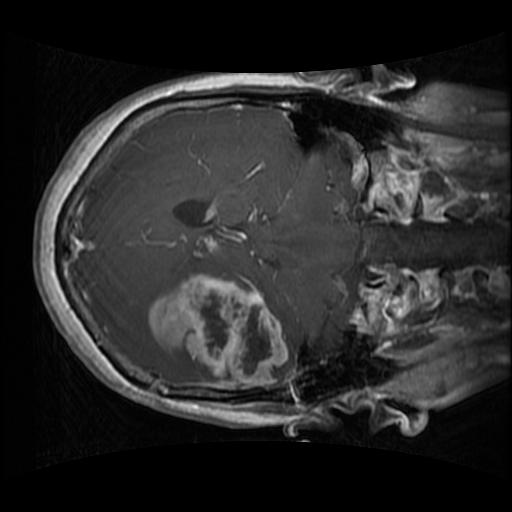glioma: (145, 270, 296, 393)
